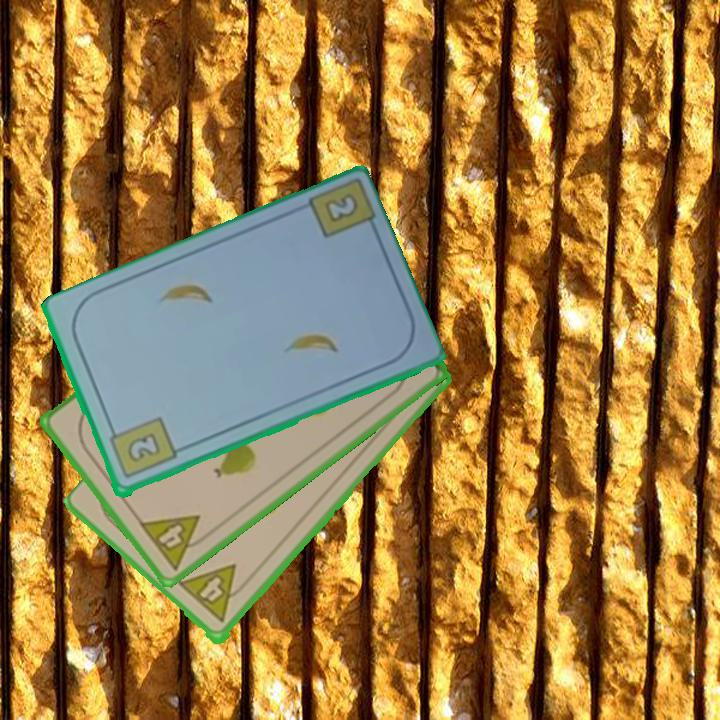2b: (105, 414, 179, 482), (320, 190, 361, 226)
4p: (176, 561, 253, 627), (135, 511, 215, 573)
